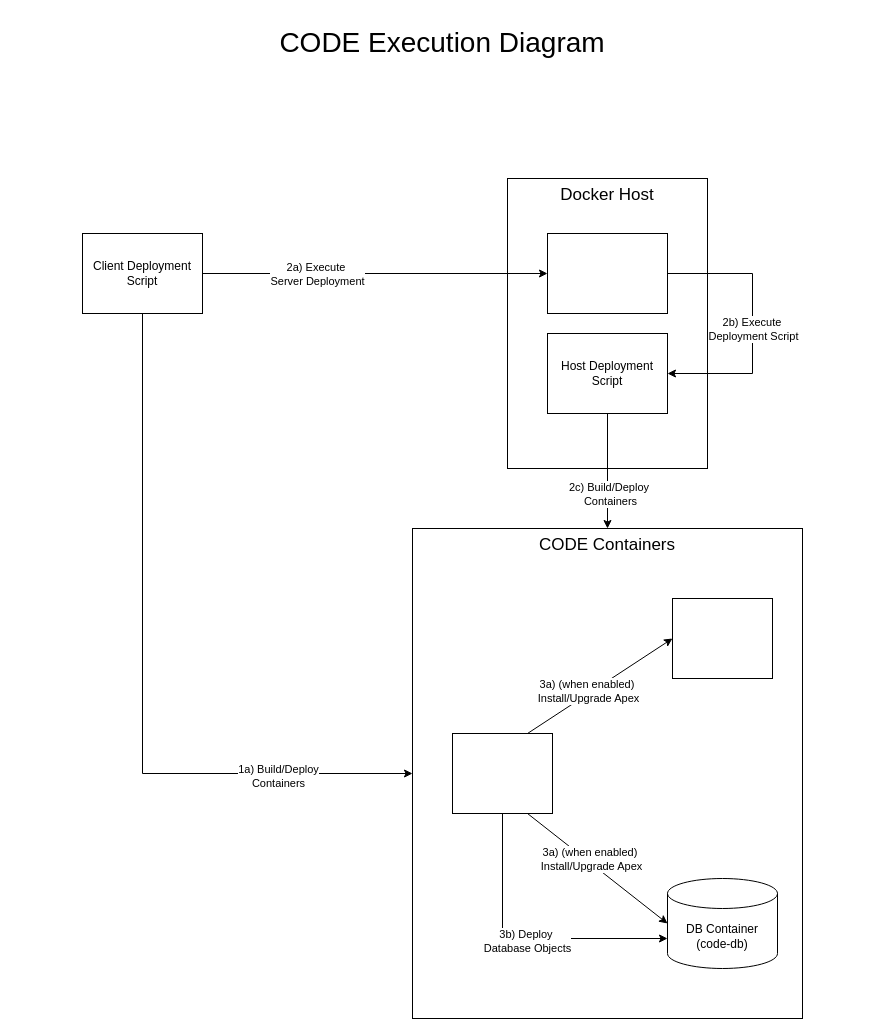
This 884x1036 diagram has some shape labels left out. Each missing label, with the centre of its shape:
"Database Deployment Container (code-db-ords-deploy)" belongs at point (502, 773).
"Host Preparation Script" belongs at point (607, 273).
"ORDS Container (code-ords)" belongs at point (722, 638).
